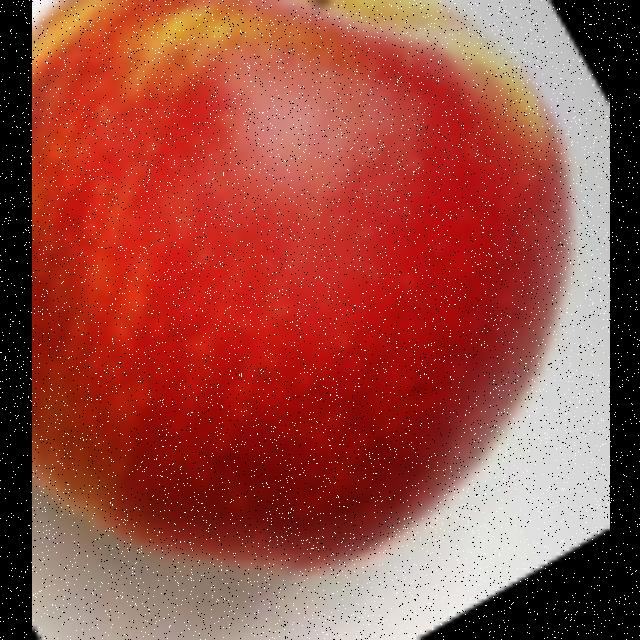Apel Segar: (31, 1, 592, 584)
